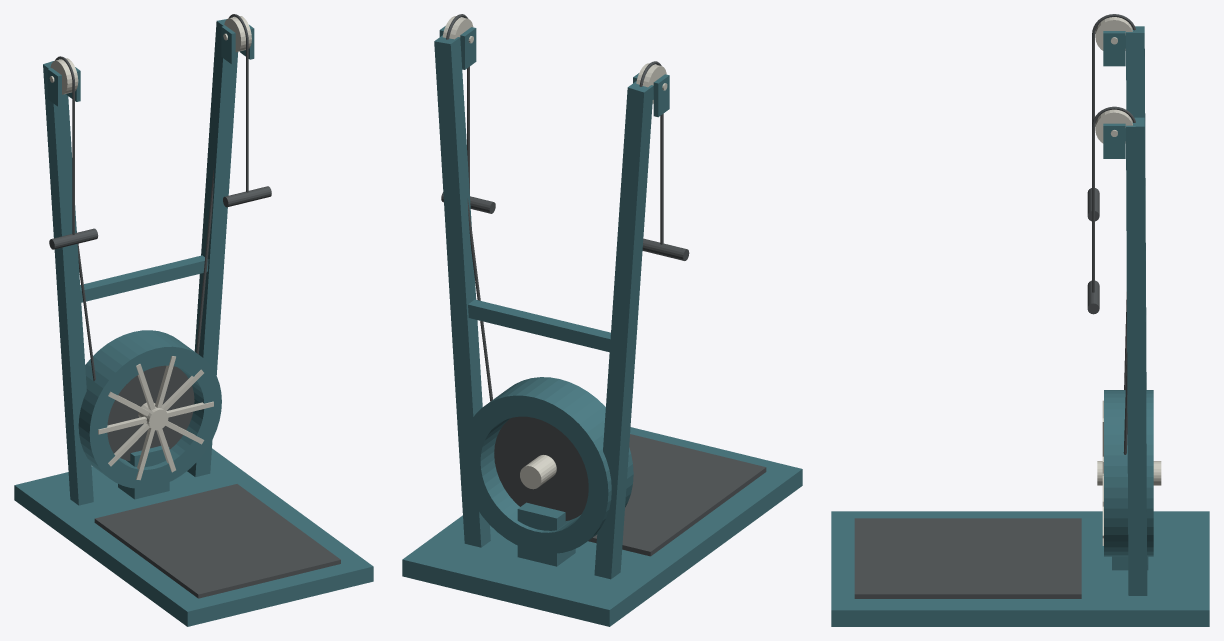
The picture shows the model from 3 angles, left to right: view 1: azimuth 30°, elevation 25°; view 2: azimuth 150°, elevation 25°; view 3: azimuth 270°, elevation 25°; orthographic projection. The views are drawn at different scales.
Parts seen in each view (by area): view 1: WholeLongGroundStandingPlinth, WholeRaisedStandingTread, WholeDeepAnnularFanEnclosure, LeftWholeRisingFrameColumn, RightWholeRisingFrameColumn, WholeFixedInternalFanWheel, WholeRearMidFrameTie, RightWholeContinuousFixedPullCord, LeftWholeContinuousFixedPullCord, WholeLowFanPedestal, LeftWholeSeparateHandGrip, RightWholeSeparateHandGrip (+2 smaller); view 2: WholeLongGroundStandingPlinth, WholeDeepAnnularFanEnclosure, LeftWholeRisingFrameColumn, RightWholeRisingFrameColumn, WholeRaisedStandingTread, WholeFixedInternalFanWheel, WholeRearMidFrameTie, WholeLowFanPedestal, RightWholeContinuousFixedPullCord, WholeFanHubAndAxle, LeftWholeContinuousFixedPullCord, LeftWholePulleyForkCheek_-1 (+2 smaller); view 3: WholeLongGroundStandingPlinth, WholeRaisedStandingTread, RightWholeRisingFrameColumn, WholeDeepAnnularFanEnclosure, LeftWholeRisingFrameColumn, RightWholeContinuousFixedPullCord, LeftWholePulleyForkCheek_1, RightWholePulleyForkCheek_1, LeftWholeContinuousFixedPullCord, RightWholeUpperPulley, LeftWholeUpperPulley.
Boxes of the visible parts, x1=… form: WholeLongGroundStandingPlinth: x1=14, y1=448, x2=373, y2=626; WholeRaisedStandingTread: x1=94, y1=484, x2=340, y2=598; WholeDeepAnnularFanEnclosure: x1=78, y1=330, x2=221, y2=488; LeftWholeRisingFrameColumn: x1=43, y1=60, x2=93, y2=505; RightWholeRisingFrameColumn: x1=187, y1=19, x2=238, y2=477; WholeFixedInternalFanWheel: x1=107, y1=365, x2=194, y2=460; WholeRearMidFrameTie: x1=80, y1=255, x2=208, y2=302; RightWholeContinuousFixedPullCord: x1=196, y1=14, x2=248, y2=354; LeftWholeContinuousFixedPullCord: x1=55, y1=56, x2=95, y2=380; WholeLowFanPedestal: x1=118, y1=446, x2=169, y2=499; LeftWholeSeparateHandGrip: x1=49, y1=228, x2=98, y2=249; RightWholeSeparateHandGrip: x1=223, y1=186, x2=271, y2=207; WholeLongGroundStandingPlinth: x1=402, y1=427, x2=802, y2=626; WholeDeepAnnularFanEnclosure: x1=461, y1=377, x2=633, y2=553; LeftWholeRisingFrameColumn: x1=594, y1=81, x2=653, y2=579; RightWholeRisingFrameColumn: x1=434, y1=35, x2=490, y2=547; WholeRaisedStandingTread: x1=588, y1=434, x2=766, y2=556; WholeFixedInternalFanWheel: x1=494, y1=416, x2=588, y2=520; WholeRearMidFrameTie: x1=468, y1=299, x2=610, y2=352; WholeLowFanPedestal: x1=517, y1=502, x2=575, y2=566; RightWholeContinuousFixedPullCord: x1=446, y1=14, x2=492, y2=401; WholeFanHubAndAxle: x1=520, y1=455, x2=556, y2=489; LeftWholeContinuousFixedPullCord: x1=639, y1=61, x2=663, y2=244; LeftWholePulleyForkCheek_-1: x1=653, y1=74, x2=669, y2=117; WholeLongGroundStandingPlinth: x1=831, y1=511, x2=1209, y2=626; WholeRaisedStandingTread: x1=854, y1=518, x2=1081, y2=598; RightWholeRisingFrameColumn: x1=1126, y1=117, x2=1147, y2=595; WholeDeepAnnularFanEnclosure: x1=1104, y1=390, x2=1153, y2=556; LeftWholeRisingFrameColumn: x1=1126, y1=26, x2=1146, y2=389; RightWholeContinuousFixedPullCord: x1=1092, y1=106, x2=1135, y2=454; LeftWholePulleyForkCheek_1: x1=1103, y1=31, x2=1125, y2=66; RightWholePulleyForkCheek_1: x1=1103, y1=123, x2=1125, y2=158; LeftWholeContinuousFixedPullCord: x1=1092, y1=14, x2=1135, y2=389; RightWholeUpperPulley: x1=1095, y1=109, x2=1132, y2=143; LeftWholeUpperPulley: x1=1095, y1=17, x2=1132, y2=50.
Bounding box in the file's own units: 1.05 × 2.19 × 1.45.
